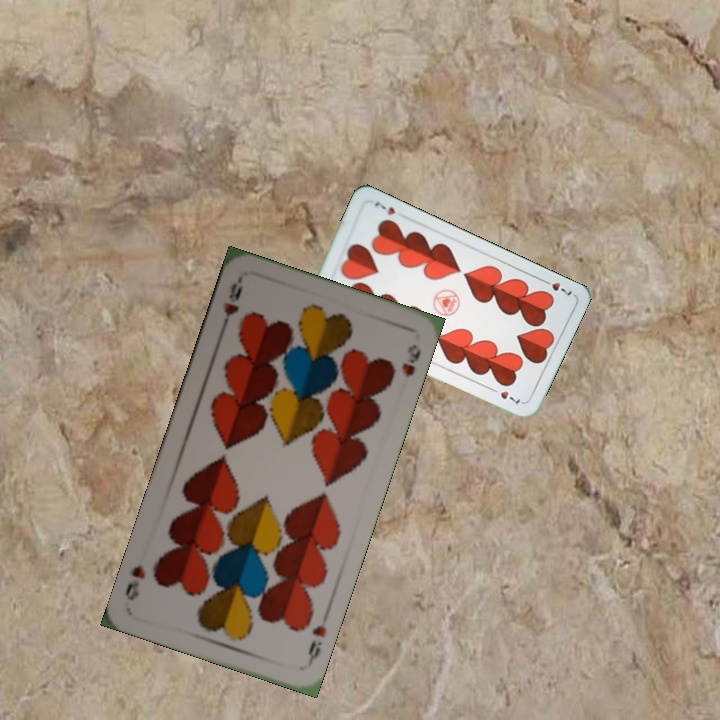H7: (537, 275, 575, 298)
H9: (217, 275, 246, 333), (303, 611, 331, 668)
